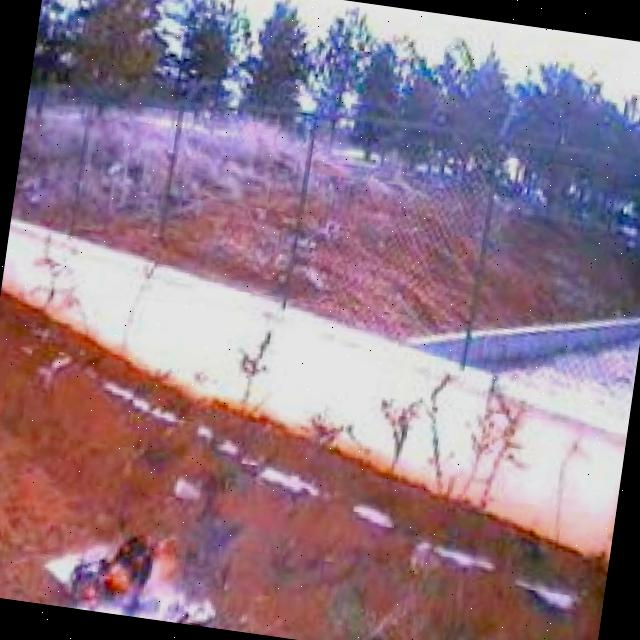fire: (54, 513, 190, 623)
